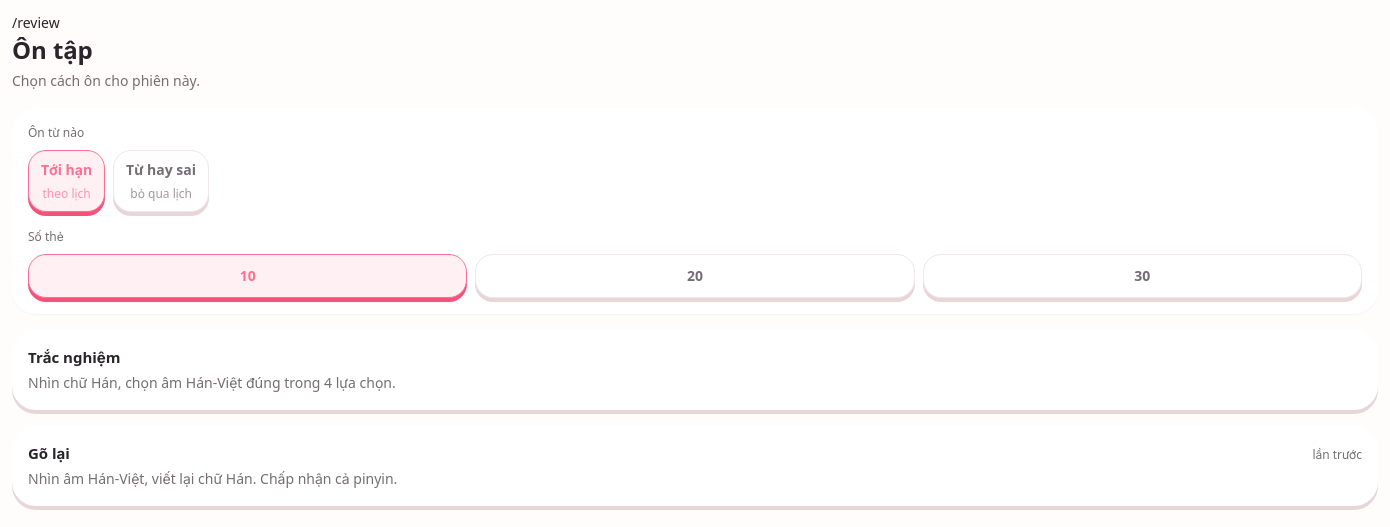
trạng thái rỗng › phân biệt với trường hợp thật sự không có từ nào
This screenshot has width=1390, height=527.
Click the text "Gõ lại": {"x": 49, "y": 453} [28,442,70,464]
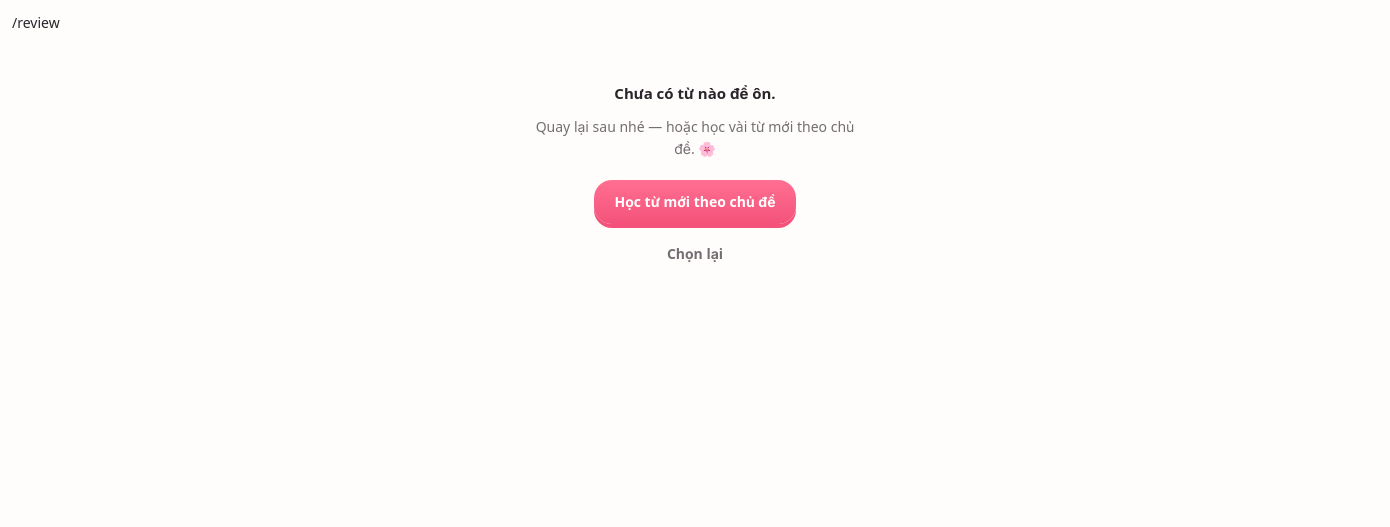
Expected: the heading "Chưa có từ nào để ôn." is shown, [614,82,776,104]
